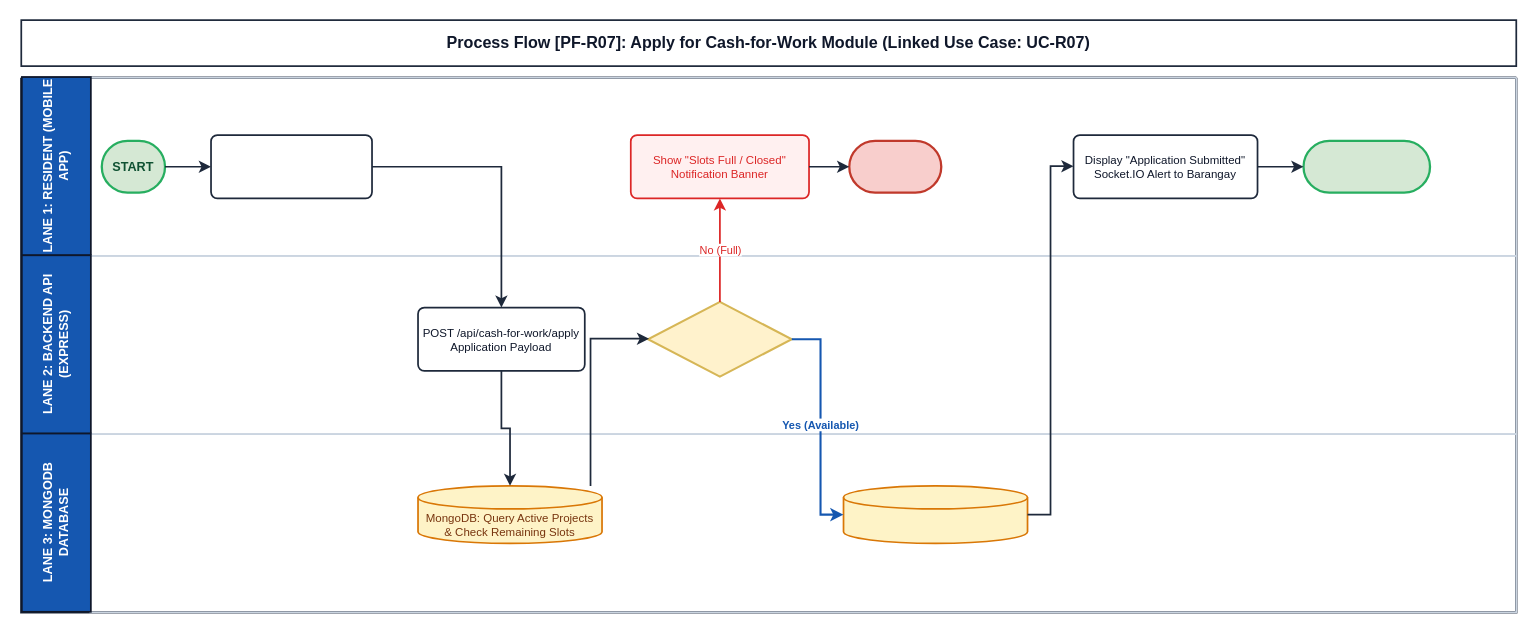
The diagram is 1536 pixels wide and 634 high, and some of its shapes have lost their labels. Here are the shapes that lost their labels. From the top down, the centre of each, then its label:
At point (291, 166): "Open Livelihood Tab; Select Job Category".
At point (895, 166): "END: Full".
At point (1366, 166): "END: Awaiting Review".
At point (719, 338): "Slots Available?".
At point (935, 514): "MongoDB: Save Application (pending_barangay_review)".
